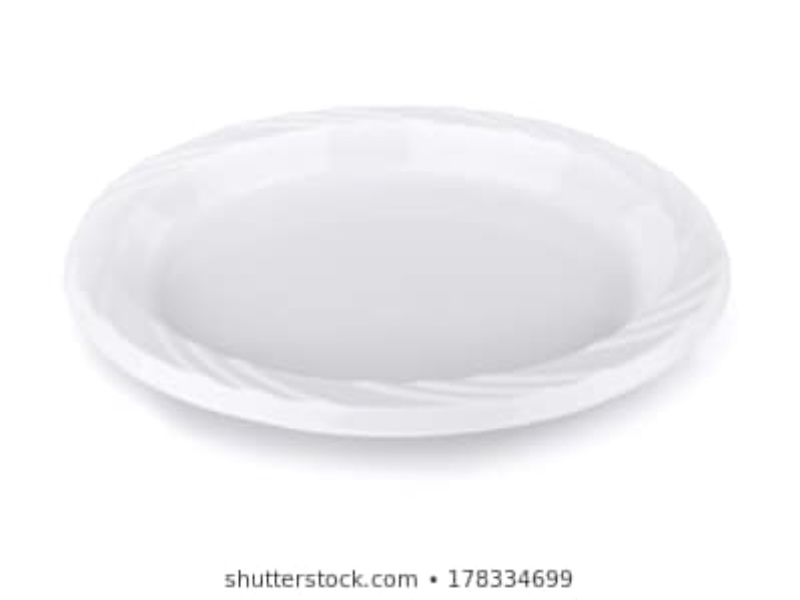plastic-plate: (59, 104, 732, 439)
